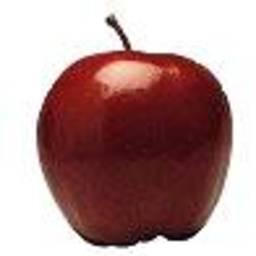apple: (38, 39, 231, 246)
